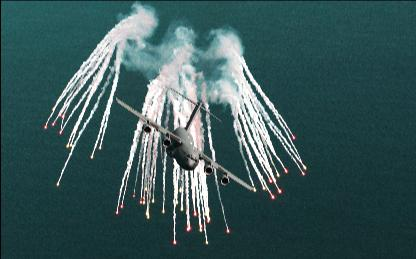C2: (114, 86, 258, 190)
